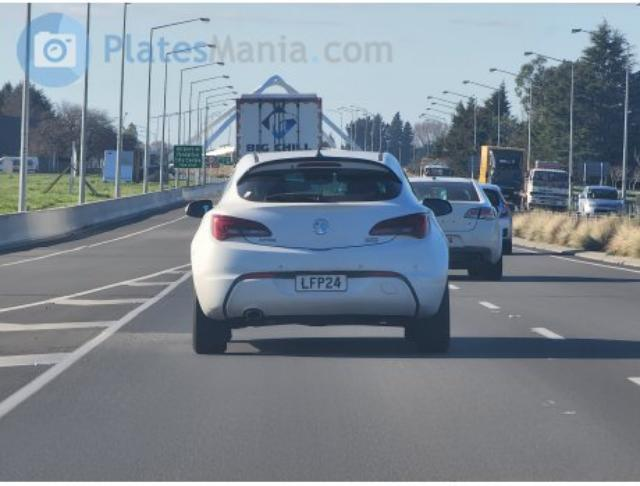Rego: (295, 277, 348, 294)
